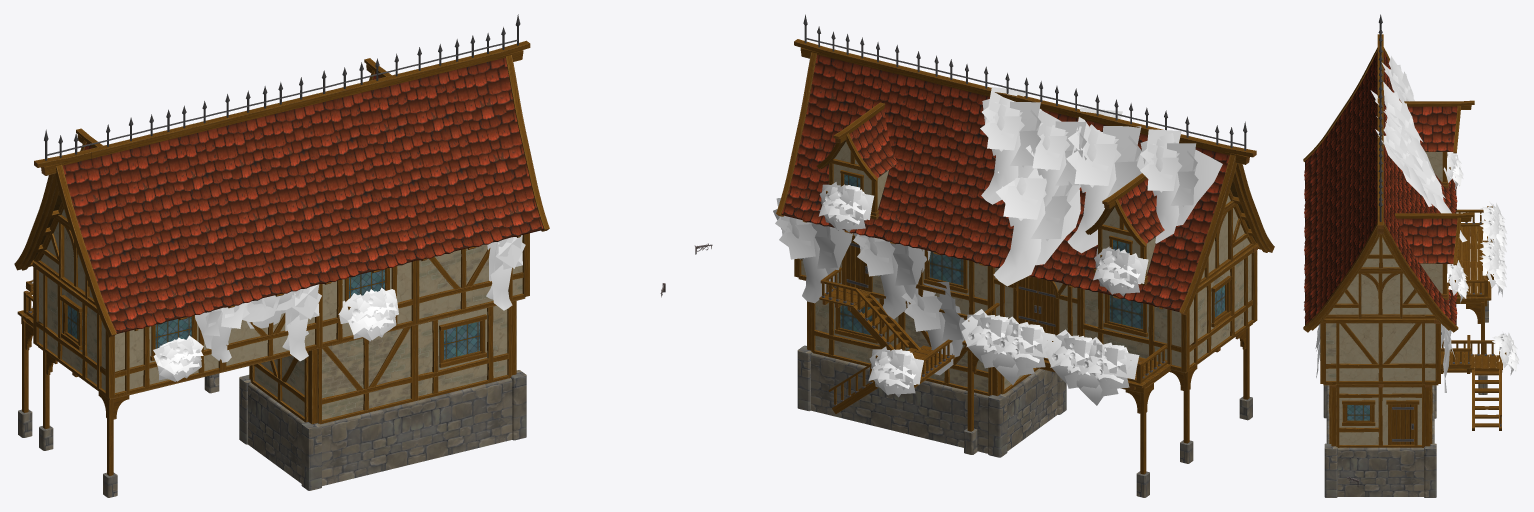
File: overhead_house.gltf
The picture shows the model from 3 angles, left to right: view 1: azimuth 30°, elevation 25°; view 2: azimuth 150°, elevation 25°; view 3: azimuth 270°, elevation 25°; orthographic projection. The views are drawn at different scales.
Parts seen in each view (by area): view 1: SM_House_Roof_01_Tiling_Base (×4), SM_House_Roof_01_Tiling_TopExtended (×4), SM_House_Wall_5x4_A_01 (×4), SM_House_Wall_5x4_Window_B_01 (×3), SM_House_Foundation_5x4_Corner (×2), SM_House_Roof_Beam_Tiling (×4), SM_House_Foundation_5x4, SM_House_Wall_5x4_Window_A_01, SM_House_Roof_01_End_Base_Mirrored (×2), SM_House_Roof_01_End_Base, SM_Vine_02_LOD0 (×2), SM_House_Corner_02 (×3) (+12 smaller); view 2: SM_Vine_03_LOD0 (×8), SM_House_Roof_01_Middle_Tiling_WindowFrame (×2), SM_House_Roof_01_Tiling_Base (×2), SM_House_Foundation_5x4_Corner (×3), SM_House_Roof_01_Tiling_TopExtended (×2), SM_House_Wall_5x4_Window_B_01 (×3), SM_FlowerPlanter_03 (×2), SM_FlowerPlanter_01_LOD0 (×3), SM_House_Roof_Beam_Tiling (×4), SM_House_Foundation_5x4, SM_Pillar_Exterior_01_Corner (×4), SM_House_Wall_5x4_Window_A_01 (+18 smaller); view 3: SM_House_Roof_01_Tiling_Base (×6), SM_House_Roof_01_Middle_Tiling_WindowFrame (×2), SM_House_Foundation_5x4_Corner (×2), SM_House_Wall_5x4_A_01, SM_House_Roof_01_Tiling_TopExtended (×6), SM_Vine_03_LOD0 (×6), SM_House_Wall_5x4_Door_A_01 (1), SM_House_Corner_02 (×2), SM_Balcony_02, SM_House_Roof_01_WallMiddle_A_01, SM_FlowerPlanter_03 (×2), SM_House_Roof_01_End_Base (×2) (+13 smaller).
Part boxes in pixels (x1,y1,x2,y2): SM_House_Roof_01_Tiling_Base (×4): [107, 134, 522, 330]; SM_House_Roof_01_Tiling_TopExtended (×4): [91, 65, 492, 227]; SM_House_Wall_5x4_A_01 (×4): [223, 244, 512, 424]; SM_House_Wall_5x4_Window_B_01 (×3): [125, 260, 511, 400]; SM_House_Foundation_5x4_Corner (×2): [248, 370, 526, 490]; SM_House_Roof_Beam_Tiling (×4): [87, 35, 476, 158]; SM_House_Foundation_5x4: [321, 401, 416, 485]; SM_House_Wall_5x4_Window_A_01: [43, 269, 101, 390]; SM_House_Roof_01_End_Base_Mirrored (×2): [14, 126, 549, 270]; SM_House_Roof_01_End_Base: [73, 228, 136, 337]; SM_Vine_02_LOD0 (×2): [282, 235, 525, 361]; SM_House_Corner_02 (×3): [32, 233, 529, 398]; SM_Vine_03_LOD0 (×8): [773, 87, 1222, 375]; SM_House_Roof_01_Middle_Tiling_WindowFrame (×2): [801, 102, 1186, 309]; SM_House_Roof_01_Tiling_Base (×2): [891, 148, 1085, 287]; SM_House_Foundation_5x4_Corner (×3): [797, 345, 1066, 457]; SM_House_Roof_01_Tiling_TopExtended (×2): [829, 61, 995, 166]; SM_House_Wall_5x4_Window_B_01 (×3): [811, 249, 1171, 366]; SM_FlowerPlanter_03 (×2): [961, 309, 1139, 405]; SM_FlowerPlanter_01_LOD0 (×3): [818, 182, 1148, 397]; SM_House_Roof_Beam_Tiling (×4): [844, 34, 1206, 148]; SM_House_Foundation_5x4: [811, 353, 899, 432]; SM_Pillar_Exterior_01_Corner (×4): [964, 327, 1252, 497]; SM_House_Wall_5x4_Window_A_01: [1194, 251, 1247, 364]; SM_House_Roof_01_Tiling_Base (×6): [1304, 108, 1456, 318]; SM_House_Roof_01_Middle_Tiling_WindowFrame (×2): [1395, 100, 1474, 318]; SM_House_Foundation_5x4_Corner (×2): [1324, 407, 1436, 497]; SM_House_Wall_5x4_A_01: [1336, 318, 1424, 383]; SM_House_Roof_01_Tiling_TopExtended (×6): [1352, 62, 1408, 256]; SM_Vine_03_LOD0 (×6): [1370, 56, 1467, 392]; SM_House_Wall_5x4_Door_A_01 (1): [1336, 385, 1424, 447]; SM_House_Corner_02 (×2): [1320, 318, 1440, 383]; SM_Balcony_02: [1456, 209, 1491, 306]; SM_House_Roof_01_WallMiddle_A_01: [1358, 271, 1402, 318]; SM_FlowerPlanter_03 (×2): [1479, 203, 1506, 296]; SM_House_Roof_01_End_Base (×2): [1303, 95, 1458, 332].
Size of what is drawn, in the model's own units: 31.9 by 19.36 by 12.22.
Materials: 21 (18 with a texture image).
